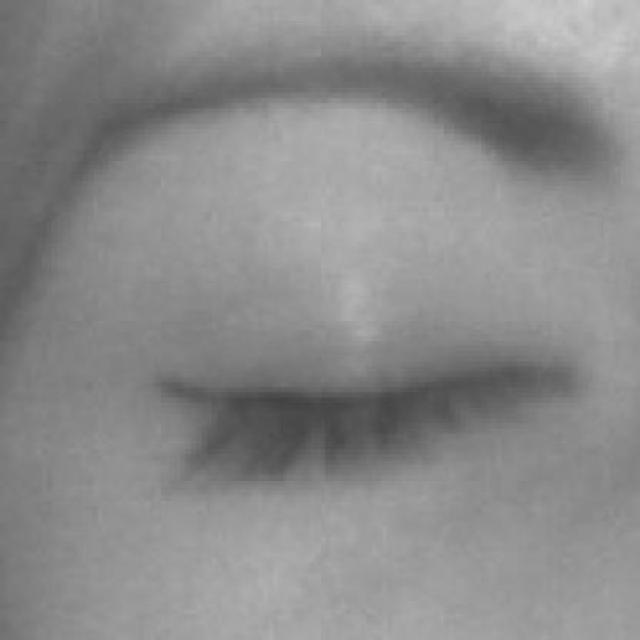drowsy: (135, 207, 560, 581)
